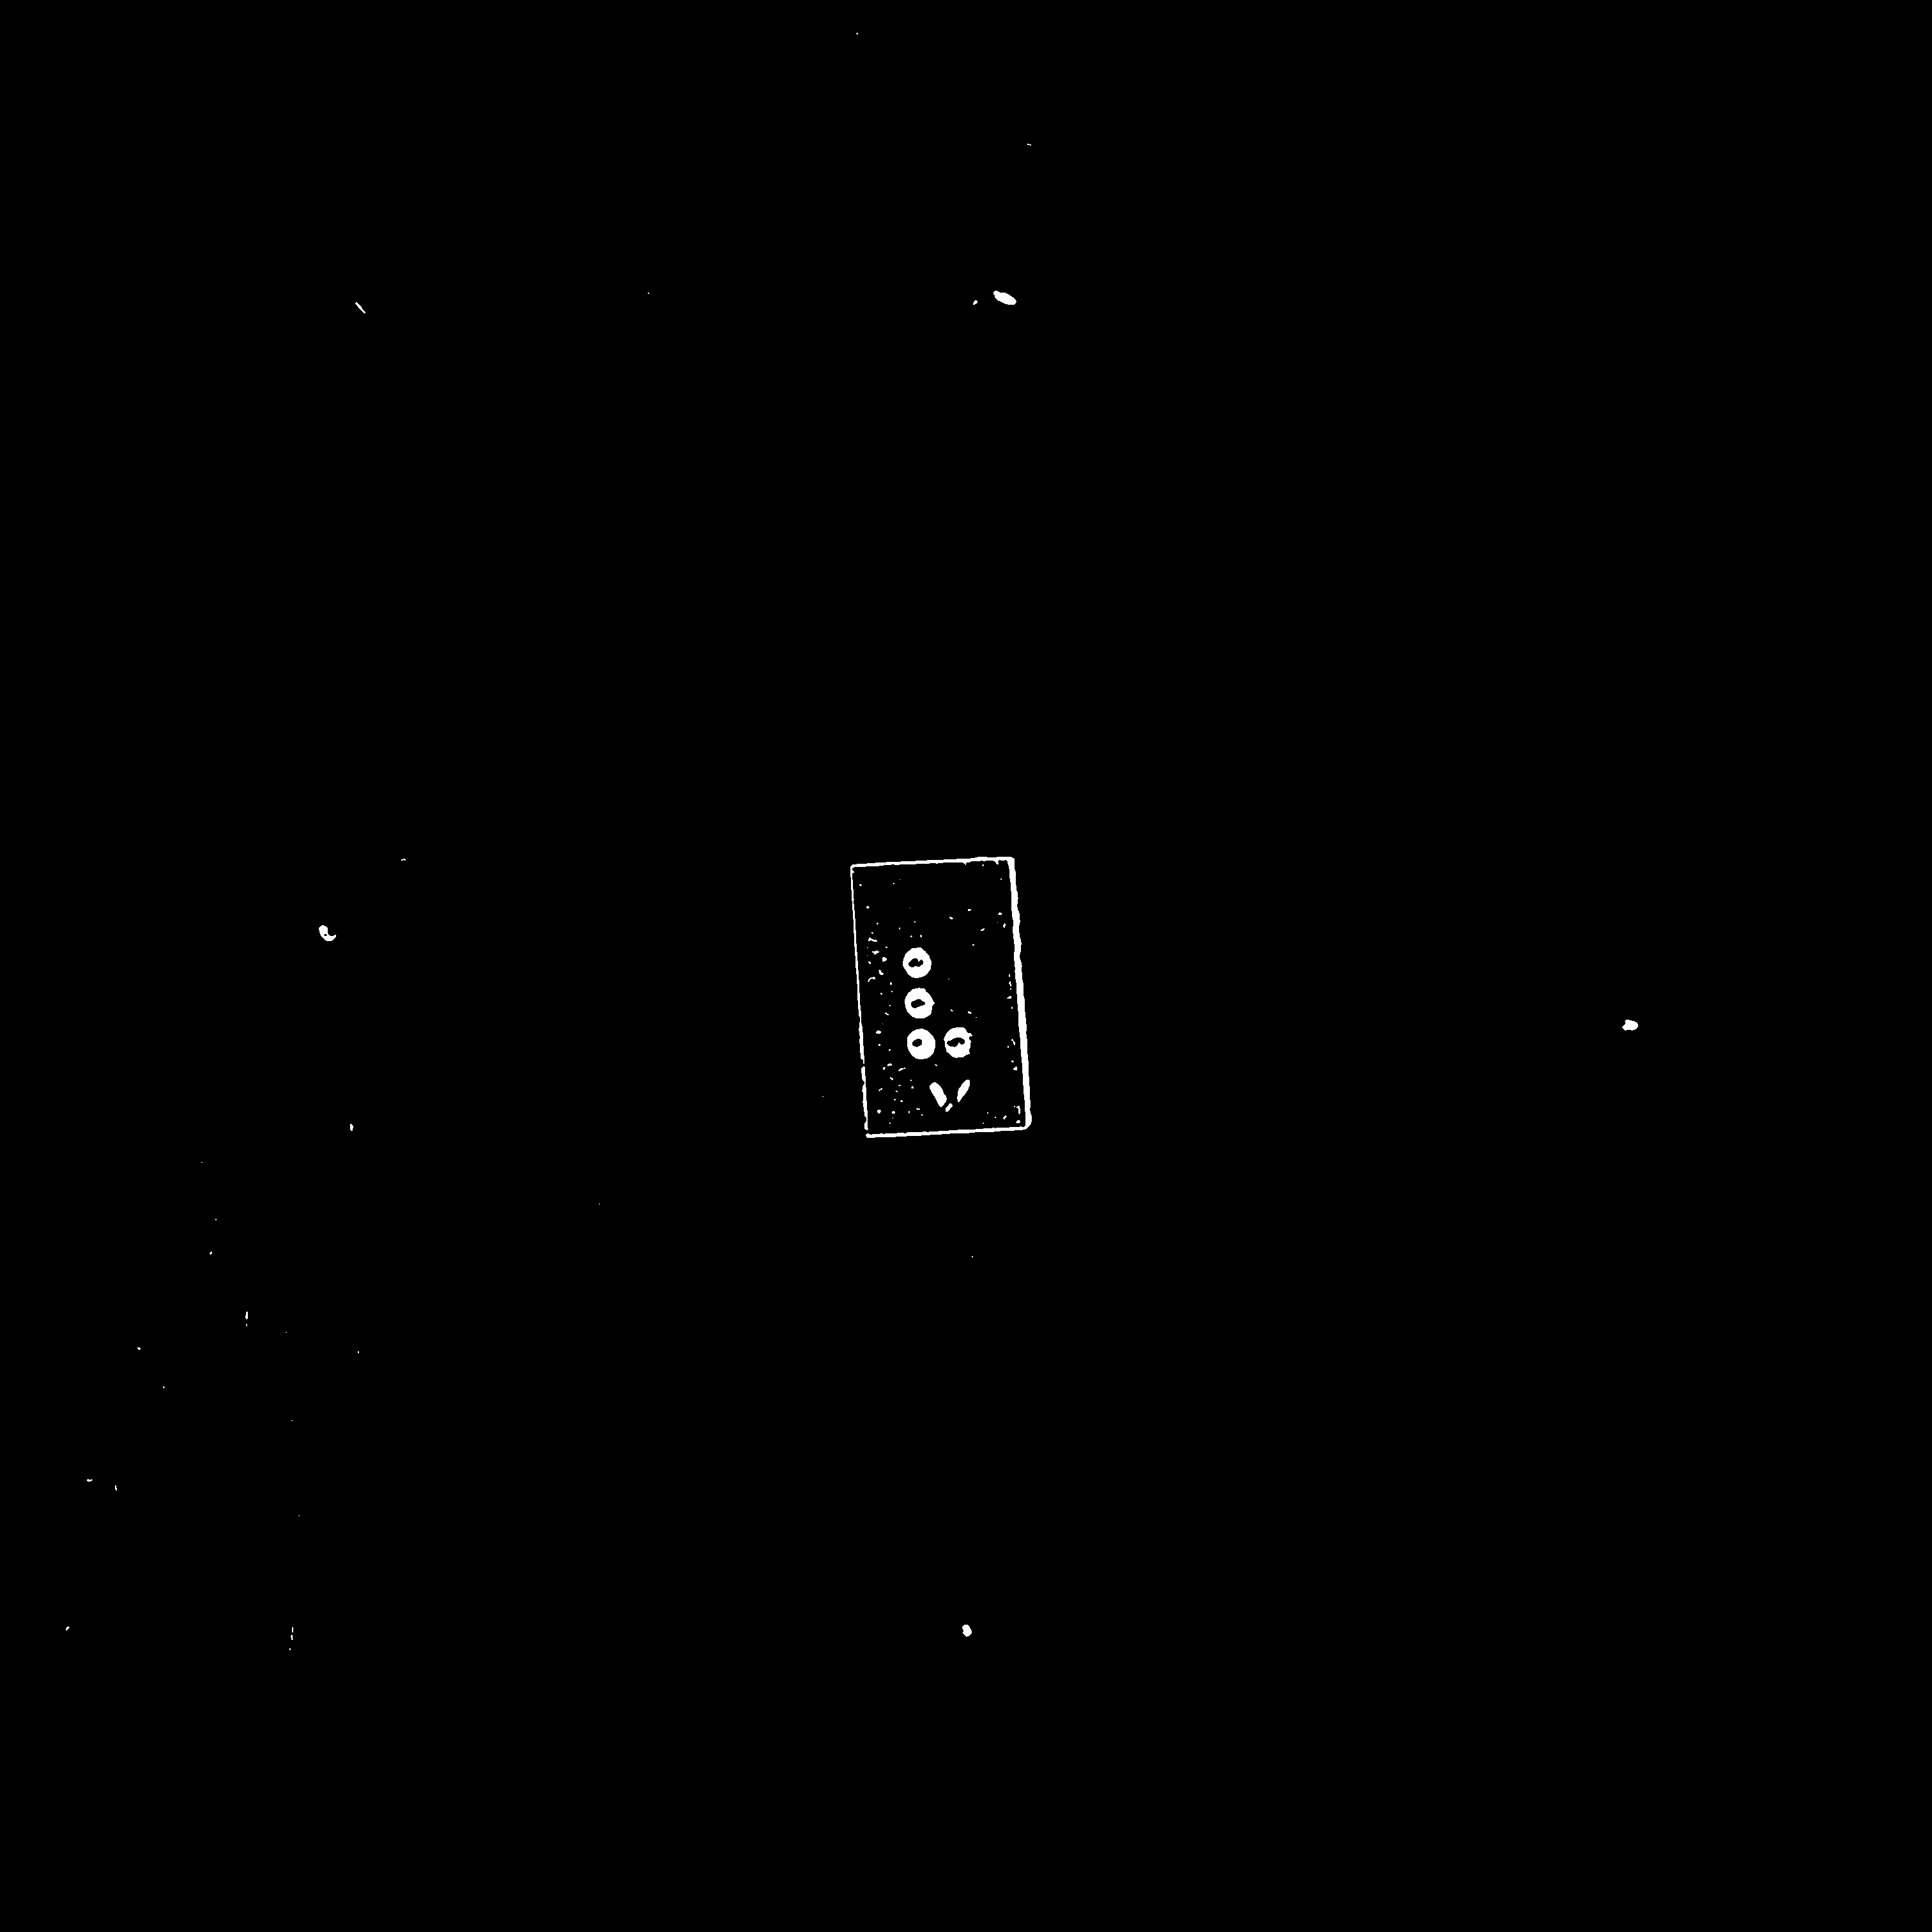v: (885, 933, 992, 1077)
